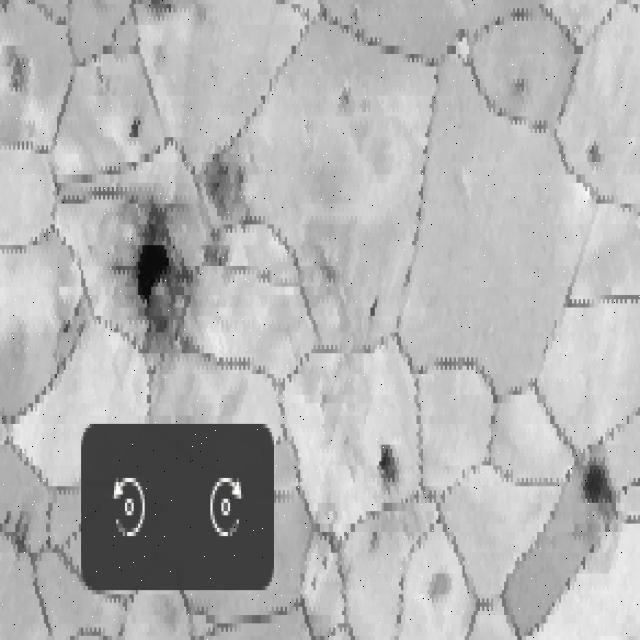good_void: (196, 144, 254, 288), (134, 228, 180, 322), (580, 456, 619, 510), (373, 441, 400, 494), (426, 566, 455, 611), (11, 44, 31, 98), (579, 135, 607, 172), (336, 83, 361, 118), (13, 506, 31, 551), (507, 69, 535, 97), (127, 106, 142, 145), (366, 526, 384, 557), (366, 288, 379, 329), (146, 0, 173, 15), (310, 570, 320, 593), (322, 554, 329, 573)
